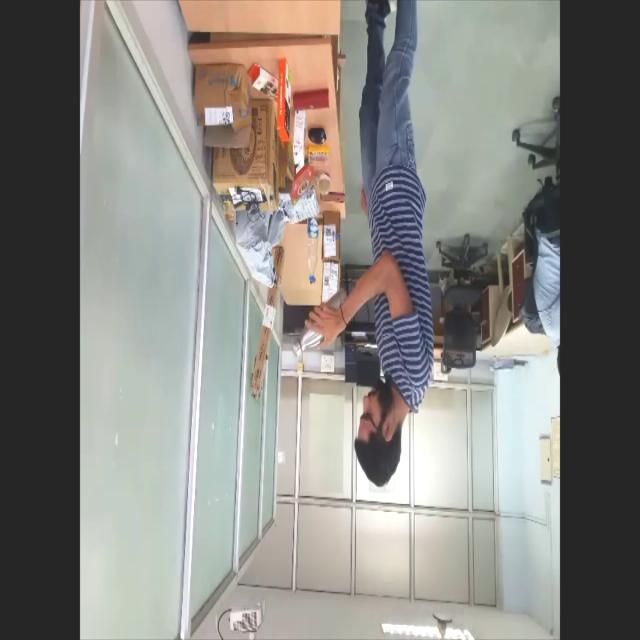normal: (292, 1, 444, 494)
